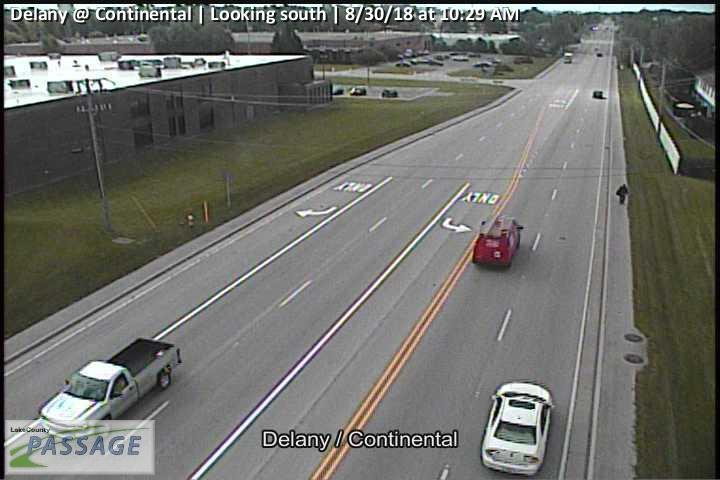Sedan: (481, 382, 555, 476), (471, 217, 523, 268), (593, 90, 602, 98)
Truck: (40, 337, 184, 442)
